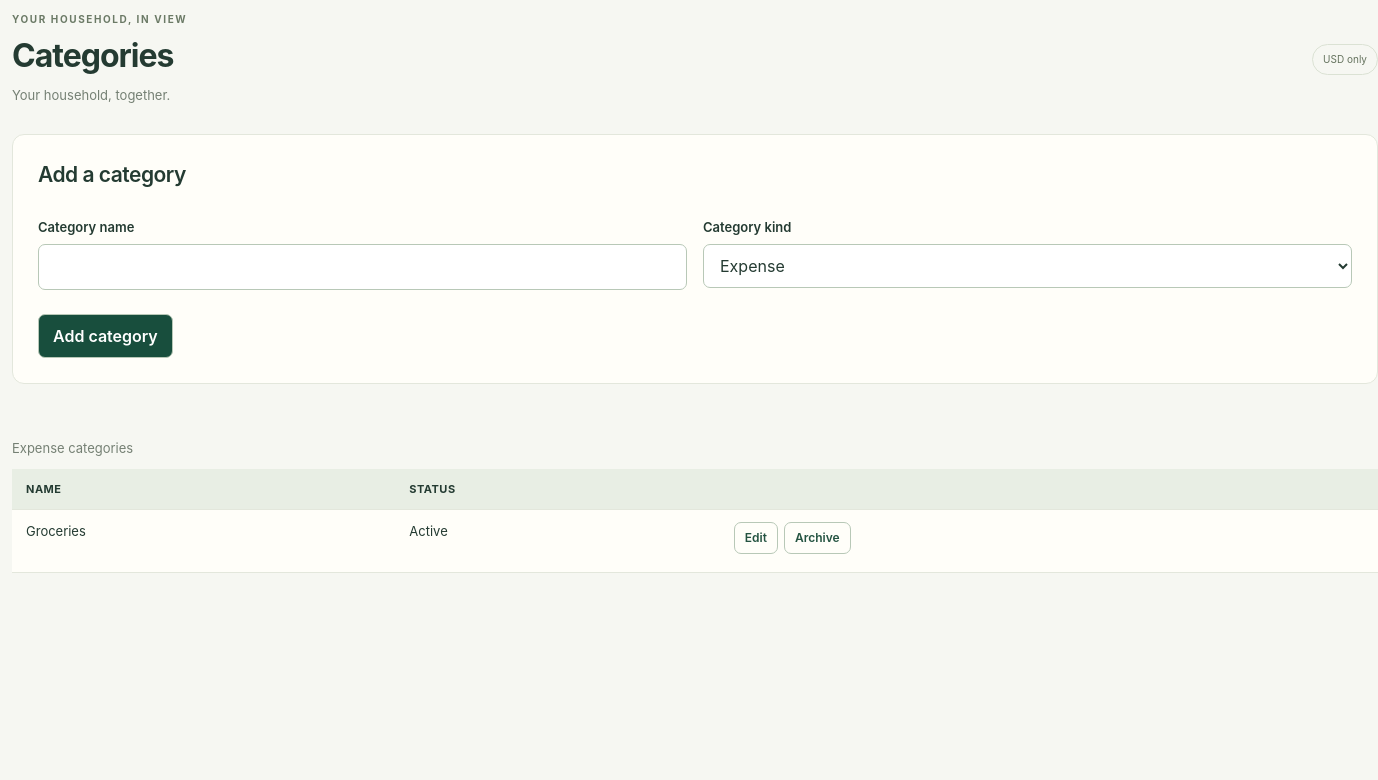
Test: Category corrections and household date defaults › shows an archive rejection so the user knows the category was not saved
Click the button "Archive". click: (817, 538)
box: [784, 522, 850, 554]
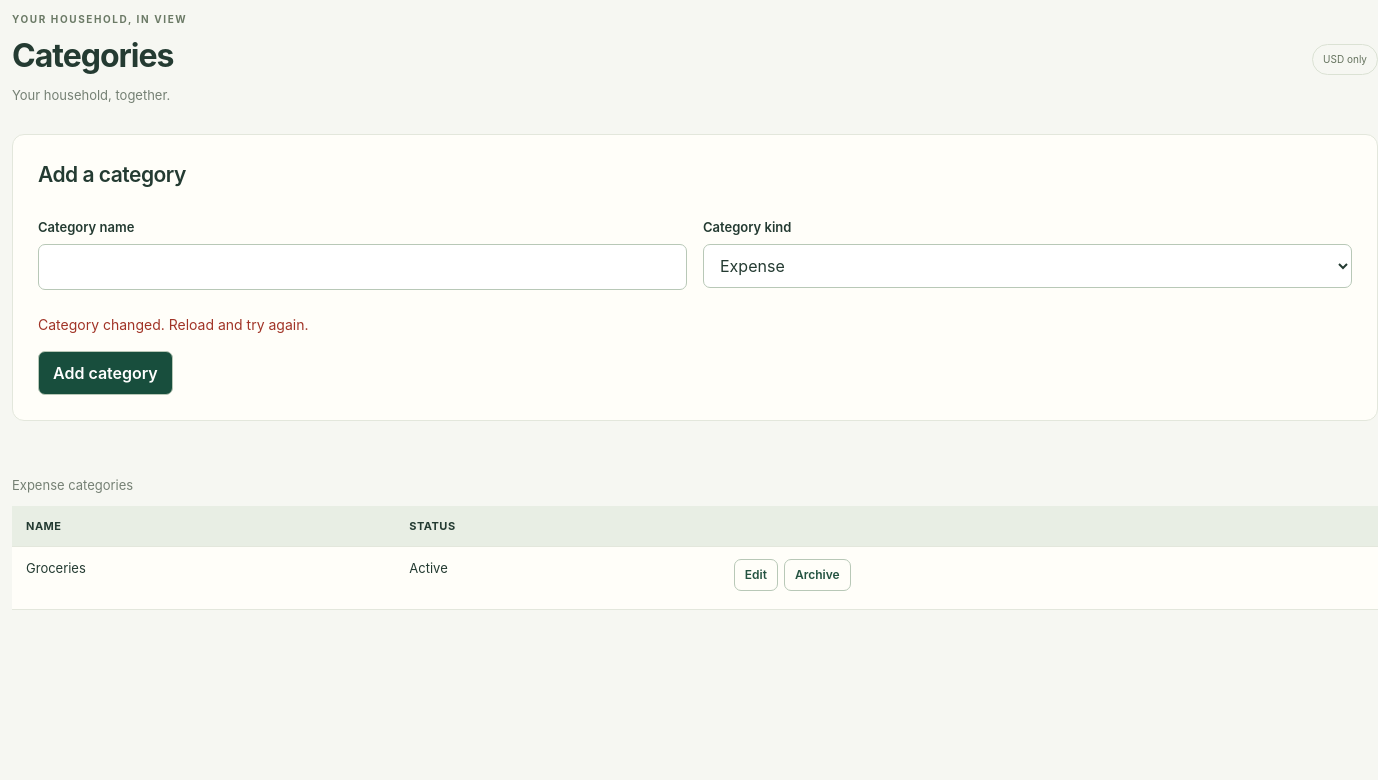
Check: the message reads "Category changed. Reload and try again.", box [38, 316, 308, 333]
